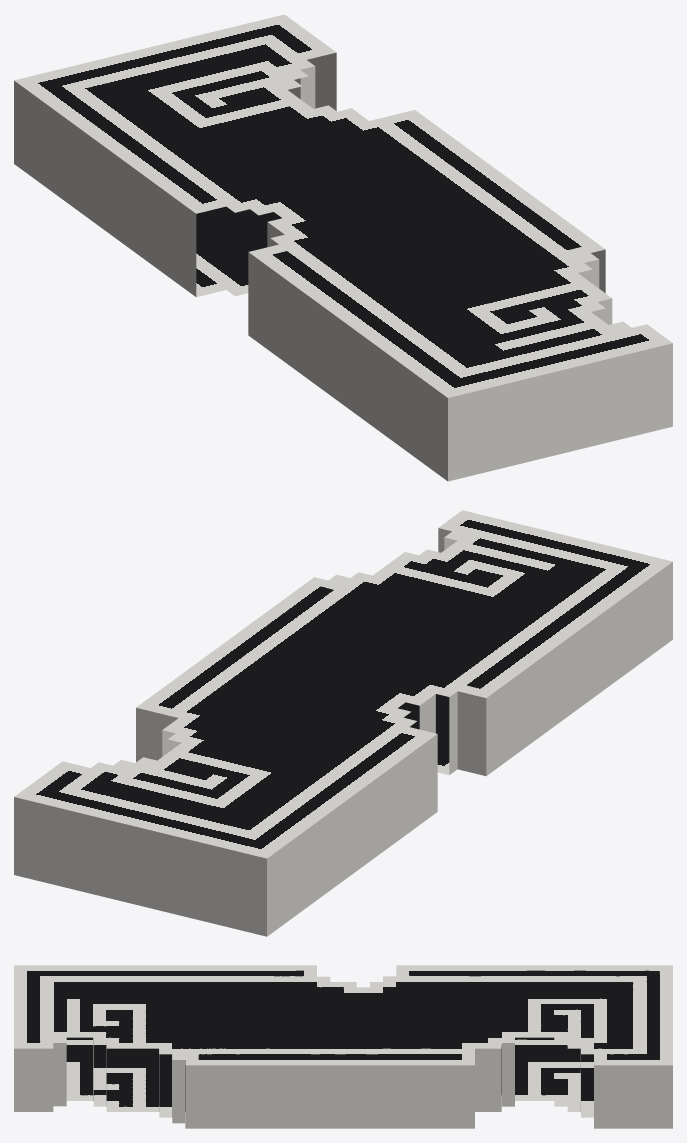
Rendered from pillar.fbx.
3 renders of one model, top to bottom at view 1: azimuth 30°, elevation 25°; view 2: azimuth 150°, elevation 25°; view 3: azimuth 270°, elevation 25°, orthographic. The views are drawn at different scales.
Parts seen in each view (by area): view 1: pillar; view 2: pillar; view 3: pillar.
Boxes of the visible parts, <box> form: pillar: <box>14,14,672,481</box>; pillar: <box>14,510,672,936</box>; pillar: <box>14,965,672,1128</box>.
Size of the model in its own units: 3600 by 1061 by 10000.
Materials: 1 (1 with a texture image).
